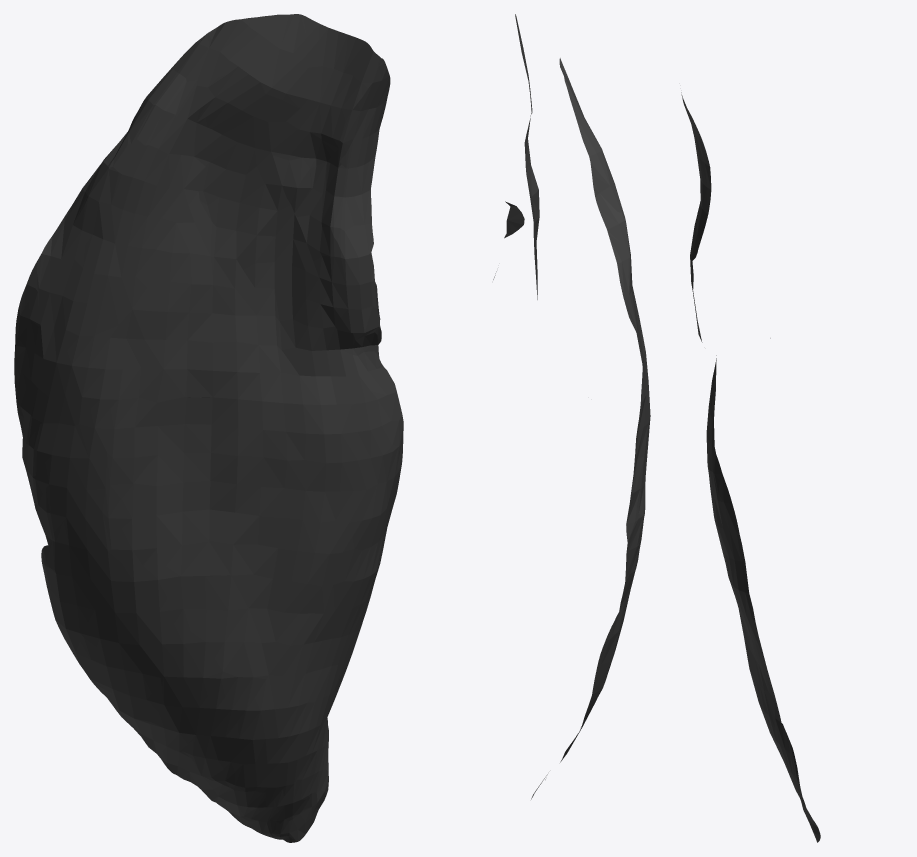
File: Deltoid_acromial.glb
3 views of the same model, side by side, from view 1: azimuth 30°, elevation 25°; view 2: azimuth 150°, elevation 25°; view 3: azimuth 270°, elevation 25° (orthographic). The views are drawn at different scales.
Parts seen in each view (by area): view 1: Deltoid_acromial; view 2: Deltoid_acromial; view 3: Deltoid_acromial.
Boxes of the visible parts, bbox=[...] form: Deltoid_acromial: bbox=[14, 14, 403, 842]; Deltoid_acromial: bbox=[493, 14, 650, 799]; Deltoid_acromial: bbox=[681, 92, 820, 842].
Bounding box in the file's own units: 0.0513 × 0.1418 × 0.0361.
Materials: 1 (1 with a texture image).
